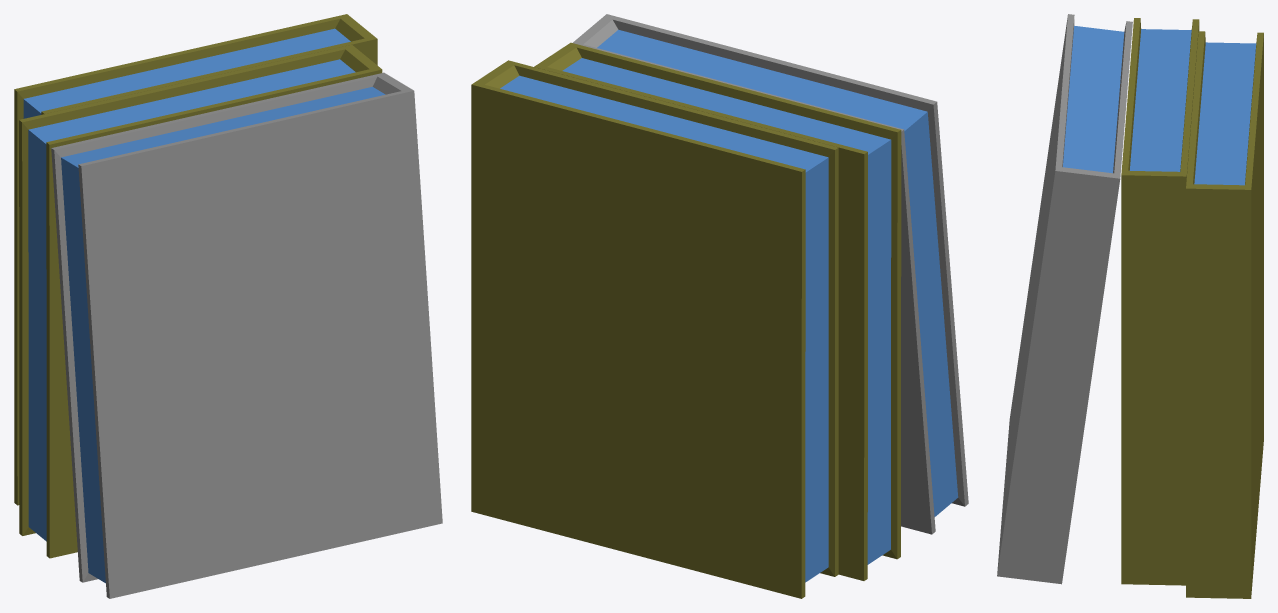
The model's file is Bedroom3_Books4.fbx.
3 views of the same model, side by side, from view 1: azimuth 30°, elevation 25°; view 2: azimuth 150°, elevation 25°; view 3: azimuth 270°, elevation 25° (orthographic). The views are drawn at different scales.
Visible parts, largest first — view 1: Bedroom3_Books4; view 2: Bedroom3_Books4; view 3: Bedroom3_Books4.
Part boxes in pixels (x1,y1,x2,y2): Bedroom3_Books4: (14, 14, 442, 598); Bedroom3_Books4: (471, 14, 968, 598); Bedroom3_Books4: (997, 14, 1263, 598).
Size of the model in its own units: 33.58 by 37.29 by 21.83.
